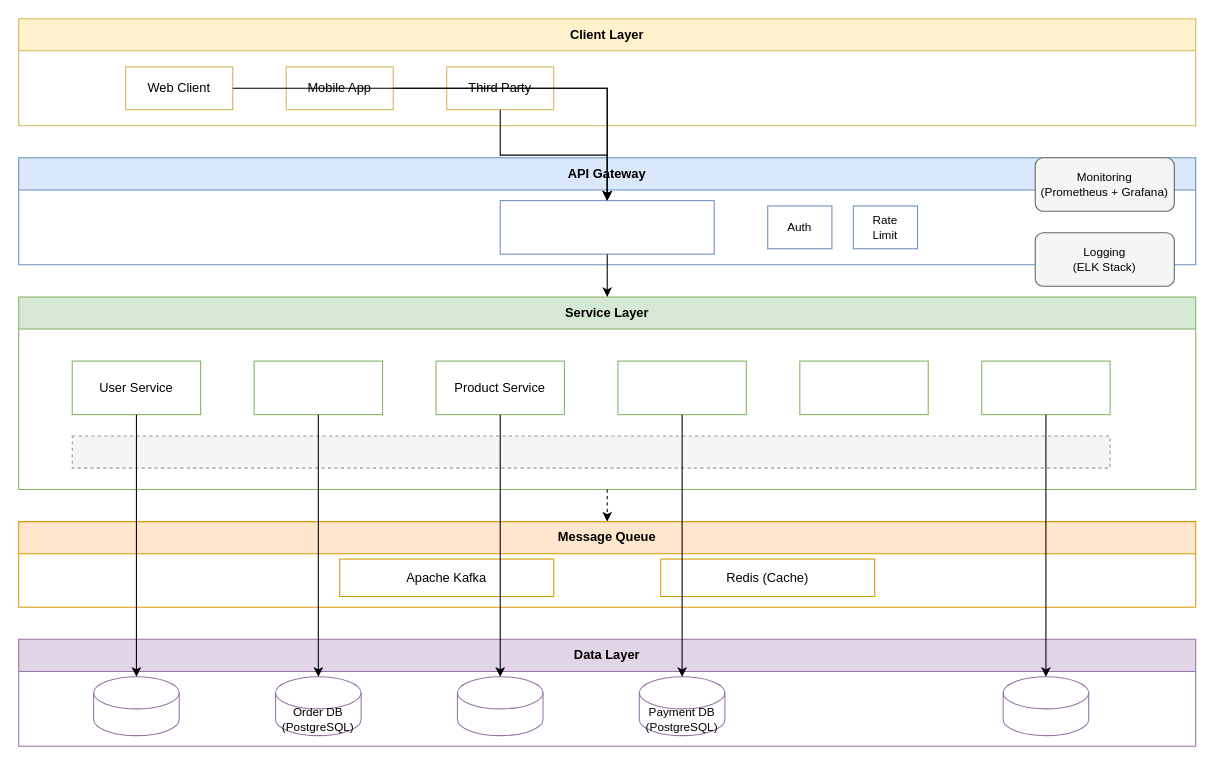
This 1214x765 diagram has some shape labels left out. Here are the shapes that lost their labels. From the top down, the centre of each, then its label:
At point (606, 227): "API Gateway (Kong / Nginx)".
At point (318, 387): "Order Service".
At point (681, 387): "Payment Service".
At point (863, 387): "Notification Service".
At point (1045, 387): "Search Service".
At point (590, 451): "Service Mesh (Istio)".
At point (136, 706): "User DB (PostgreSQL)".
At point (499, 706): "Product DB (MongoDB)".
At point (1045, 706): "Elasticsearch".
